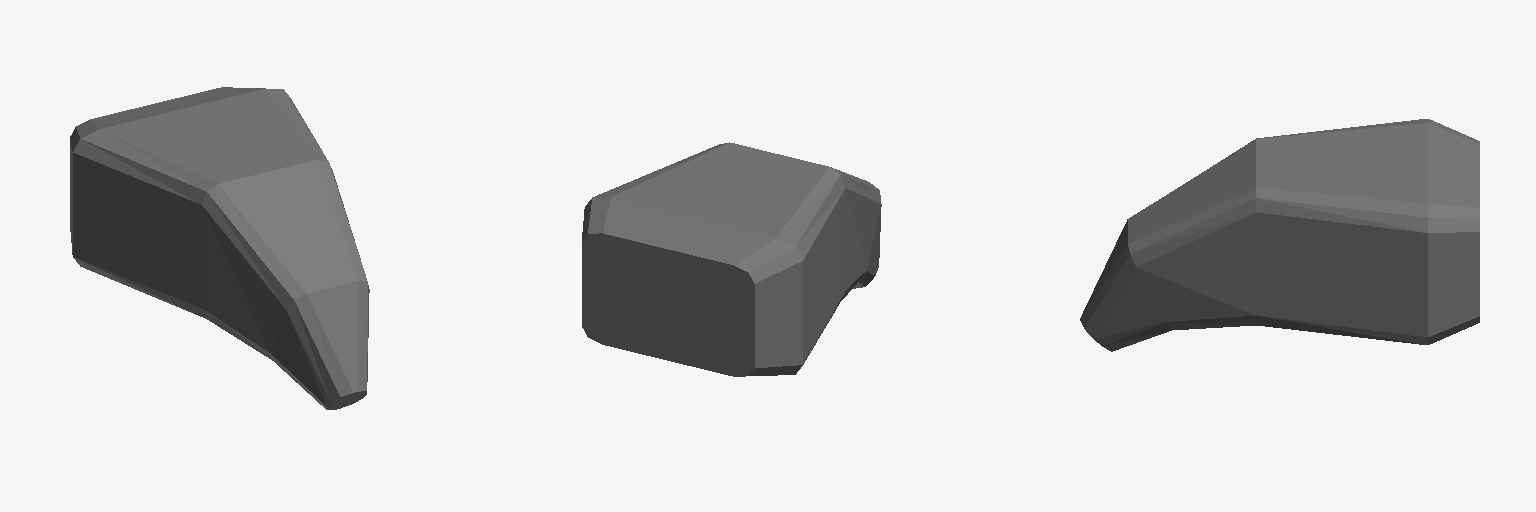
Rendered from beak.obj.
3 views of the same model, side by side, from view 1: azimuth 30°, elevation 25°; view 2: azimuth 150°, elevation 25°; view 3: azimuth 270°, elevation 25° (orthographic).
Parts seen in each view (by area): view 1: pCube6_Mesh.026; view 2: pCube6_Mesh.026; view 3: pCube6_Mesh.026.
Part boxes in pixels (bbox=[...]): pCube6_Mesh.026: bbox=[70, 87, 369, 409]; pCube6_Mesh.026: bbox=[582, 142, 881, 376]; pCube6_Mesh.026: bbox=[1080, 119, 1479, 351].
Size of the model in its own units: 0.0733 by 0.0595 by 0.116.